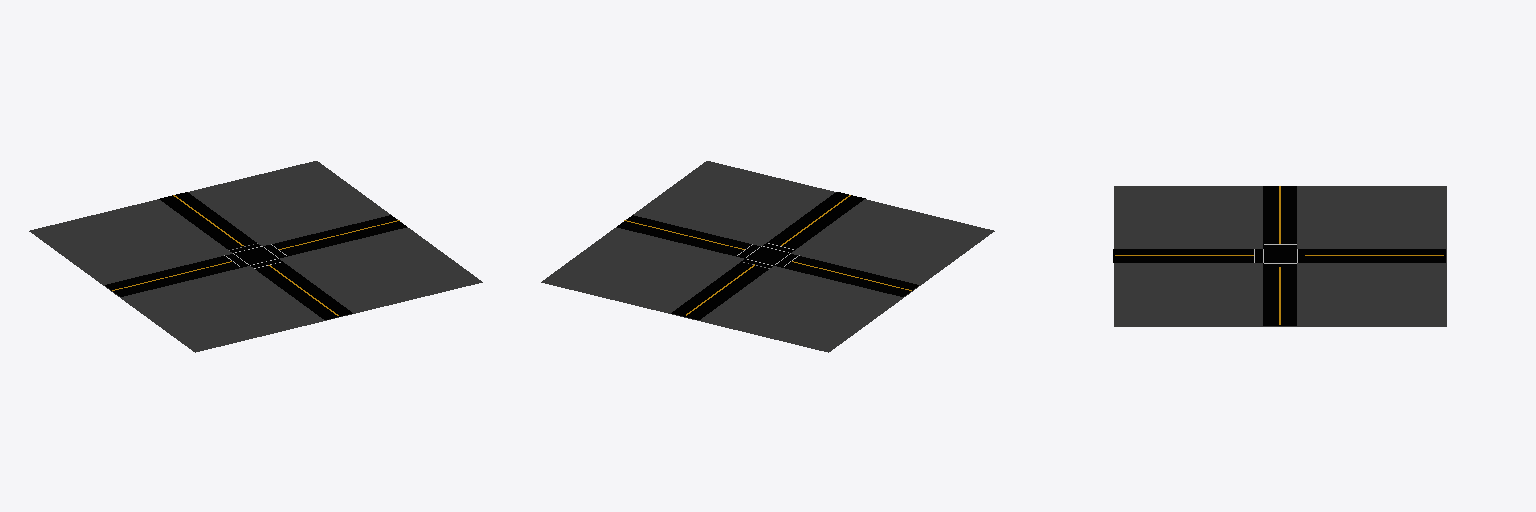
Rendered from floor_and_roads.obj.
3 renders of one model, left to right at view 1: azimuth 30°, elevation 25°; view 2: azimuth 150°, elevation 25°; view 3: azimuth 270°, elevation 25°, orthographic.
Visible parts, largest first — view 1: Plane_Plane; view 2: Plane_Plane; view 3: Plane_Plane.
Boxes of the visible parts, <box> form: Plane_Plane: <box>29,161,482,352</box>; Plane_Plane: <box>541,161,994,352</box>; Plane_Plane: <box>1113,186,1446,326</box>.
Size of the model in its own units: 110 by 0.469 by 110.